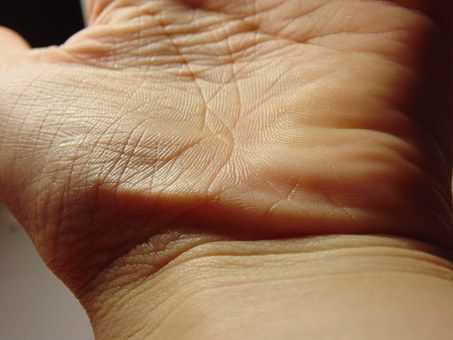palm: (100, 17, 424, 221)
